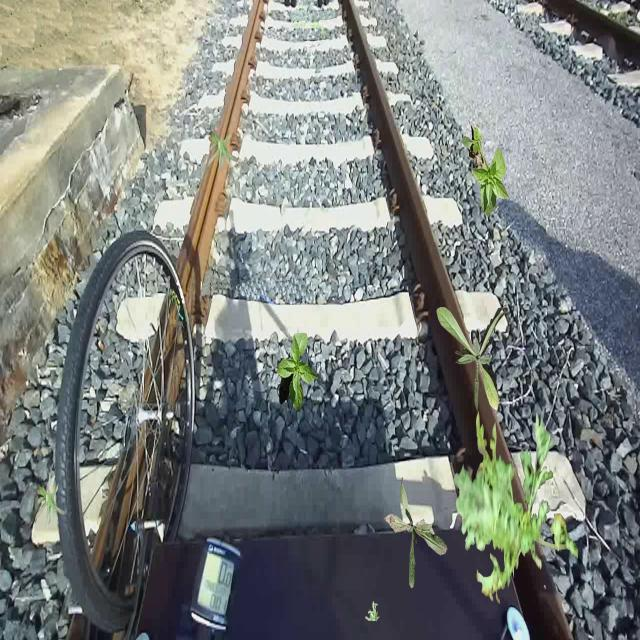Plant: (454, 409, 579, 605), (436, 305, 508, 413), (384, 477, 448, 589), (462, 123, 510, 218), (277, 333, 319, 413), (207, 130, 240, 176), (35, 483, 68, 529), (366, 601, 380, 622)
